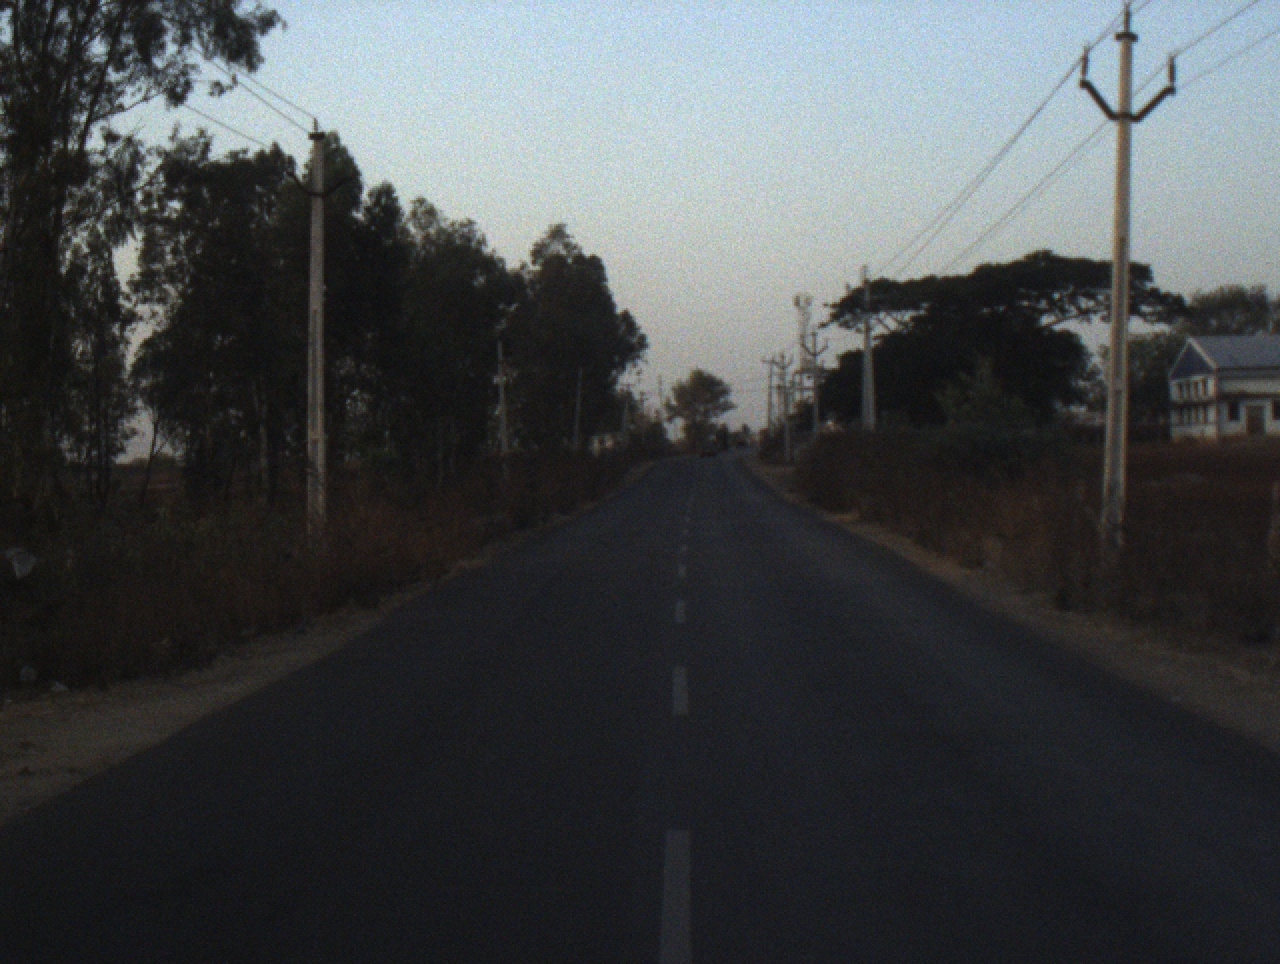autorickshaw: (733, 430, 750, 449)
car: (697, 441, 719, 461)
truck: (713, 425, 731, 450)
